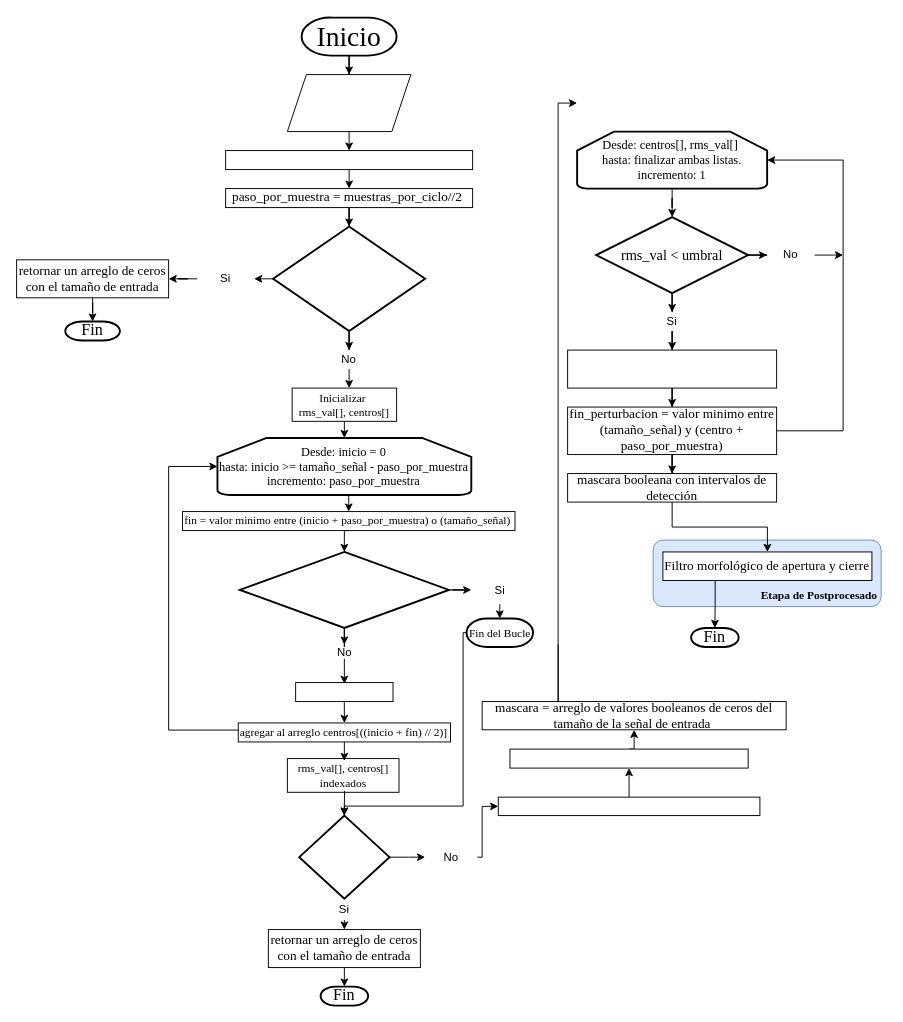
This 903x1022 diagram has some shape labels left out. Here are the shapes that lost their labels. From the top down, the centre of each, then its label:
At (x=348, y=103): "Señal de entrada normalizada señal[]".
At (x=349, y=160): "muestras_por_ciclo = F_muestreo/F_nominal".
At (x=349, y=278): "paso_por_muestra <=0".
At (x=672, y=368): "inicio_perturbacion = valor maximo entre (0) y (centro-paso_por_muestra)".
At (x=343, y=589): "fin - inicio < paso_por_muestra".
At (x=344, y=692): "calcular RMS".
At (x=628, y=758): "umbral = umbral_hundimiento * v_nominal".
At (x=628, y=806): "v_nominal = percentil 95 de los valores RMS".
At (x=344, y=856): "¿rms_val[] vacio?".
